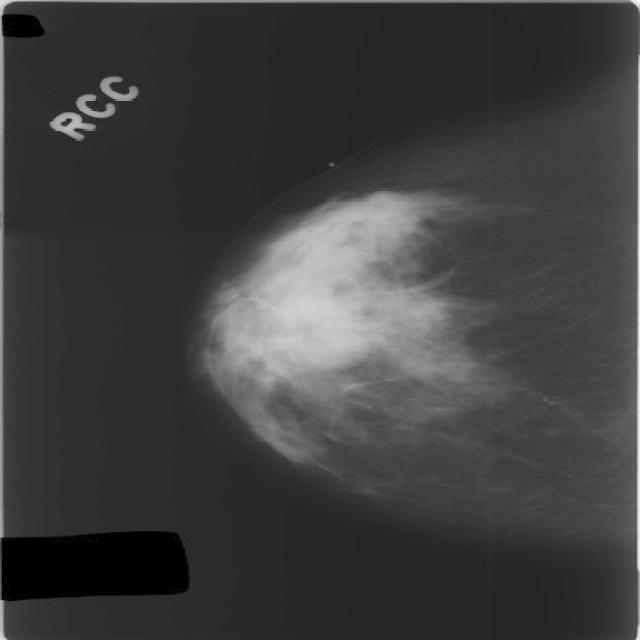tumour: (332, 189, 439, 238)
